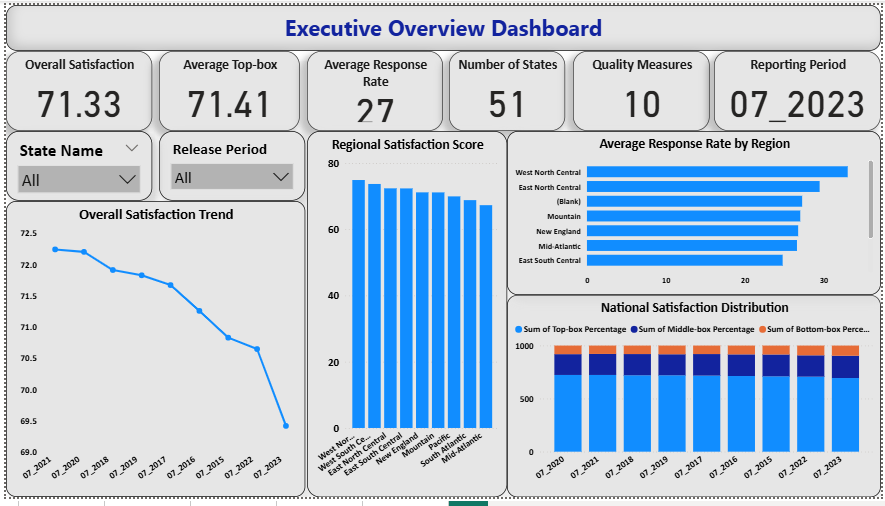

What the dashboard file says about the page in this screenshot:
{"tool":"powerbi","page":{"name":"Report 1","canvas":[1280,720],"ordinal":1},"visuals":[{"type":"textbox","box":[0,0,1280.5,67.3],"z":0},{"type":"card","title":"Overall Satisfaction ","fields":{"Values":["state_results.Overall Satisfaction"]},"box":[0,67.3,213.7,117.1],"z":1000},{"type":"card","title":"Average Top-box","fields":{"Values":["national_results.Average Top-box %"]},"box":[223.9,67.3,206.3,117.1],"z":2000},{"type":"card","title":"Average Response Rate ","fields":{"Values":["responses.Average Response Rate"]},"box":[440.5,67.3,199,117.1],"z":3000},{"type":"card","title":"Number of States","fields":{"Values":["state_results.Number of Participating States"]},"box":[648.3,67.3,169.8,117.1],"z":4000},{"type":"card","title":"Quality Measures","fields":{"Values":["measures (2).Number of Quality Measures"]},"box":[829.8,67.3,200.5,117.1],"z":5000},{"type":"card","title":"Reporting Period","fields":{"Values":["reports.Latest Reporting Period"]},"box":[1036.1,67.3,244.4,117.1],"z":6000},{"type":"slicer","fields":{"Values":["reports.Release Period"]},"box":[223.9,184.4,213.7,102.4],"z":7000},{"type":"slicer","fields":{"Values":["states.State Name"]},"box":[0,184.4,213.7,102.4],"z":8000},{"type":"lineChart","title":"Overall Satisfaction Trend","fields":{"Category":["reports.Release Period"],"Y":["state_results.Overall Satisfaction"]},"box":[0,286.8,437.6,433.2],"z":9000},{"type":"clusteredColumnChart","title":"Regional Satisfaction Score","fields":{"Category":["states.Region"],"Y":["state_results.Overall Satisfaction"]},"box":[440.5,184.4,292.7,535.6],"z":10000},{"type":"columnChart","title":"National Satisfaction Distribution","fields":{"Category":["national_results.Release Period"],"Y":["Sum(national_results.Top-box Percentage)","Sum(national_results.Middle-box Percentage)","Sum(national_results.Bottom-box Percentage)"]},"box":[733.2,424.4,547.3,295.6],"z":11000},{"type":"clusteredBarChart","title":"Average Response Rate by Region","fields":{"Category":["states.Region"],"Y":["responses.Average Response Rate"]},"box":[733.2,184.4,547.3,240],"z":12000},{"type":"actionButton","box":[1091.7,0,188.8,67.3],"z":13000}]}

Visuals, with their boxes in screenshot pixels (x1, y1, x2, y2), scaled from the page's 1280x720 canvas onto the 885x506 screenshot:
textbox: BBox(0, 0, 884, 47)
"Overall Satisfaction " card: BBox(0, 47, 148, 130)
"Average Top-box" card: BBox(155, 47, 297, 130)
"Average Response Rate " card: BBox(305, 47, 442, 130)
"Number of States" card: BBox(448, 47, 566, 130)
"Quality Measures" card: BBox(574, 47, 712, 130)
"Reporting Period" card: BBox(716, 47, 884, 130)
slicer - reports.Release Period: BBox(155, 130, 303, 202)
slicer - states.State Name: BBox(0, 130, 148, 202)
"Overall Satisfaction Trend" lineChart: BBox(0, 202, 303, 505)
"Regional Satisfaction Score" clusteredColumnChart: BBox(305, 130, 507, 505)
"National Satisfaction Distribution" columnChart: BBox(507, 298, 884, 505)
"Average Response Rate by Region" clusteredBarChart: BBox(507, 130, 884, 298)
actionButton: BBox(755, 0, 884, 47)
